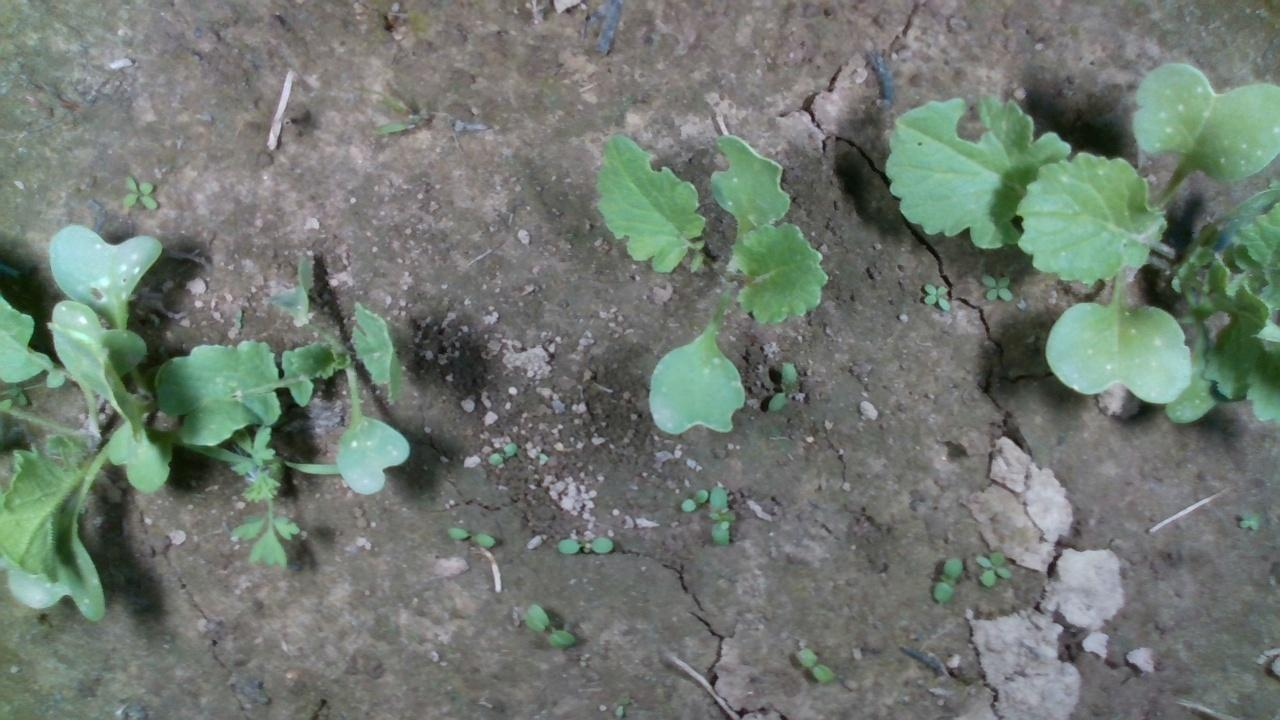weed: (520, 601, 577, 650), (764, 359, 799, 413), (708, 483, 736, 548), (793, 646, 836, 686), (972, 548, 1014, 588), (119, 171, 157, 209), (932, 556, 963, 602), (445, 523, 496, 548), (554, 534, 615, 554), (978, 271, 1014, 301), (920, 281, 951, 312), (678, 485, 708, 512), (486, 442, 516, 466)
